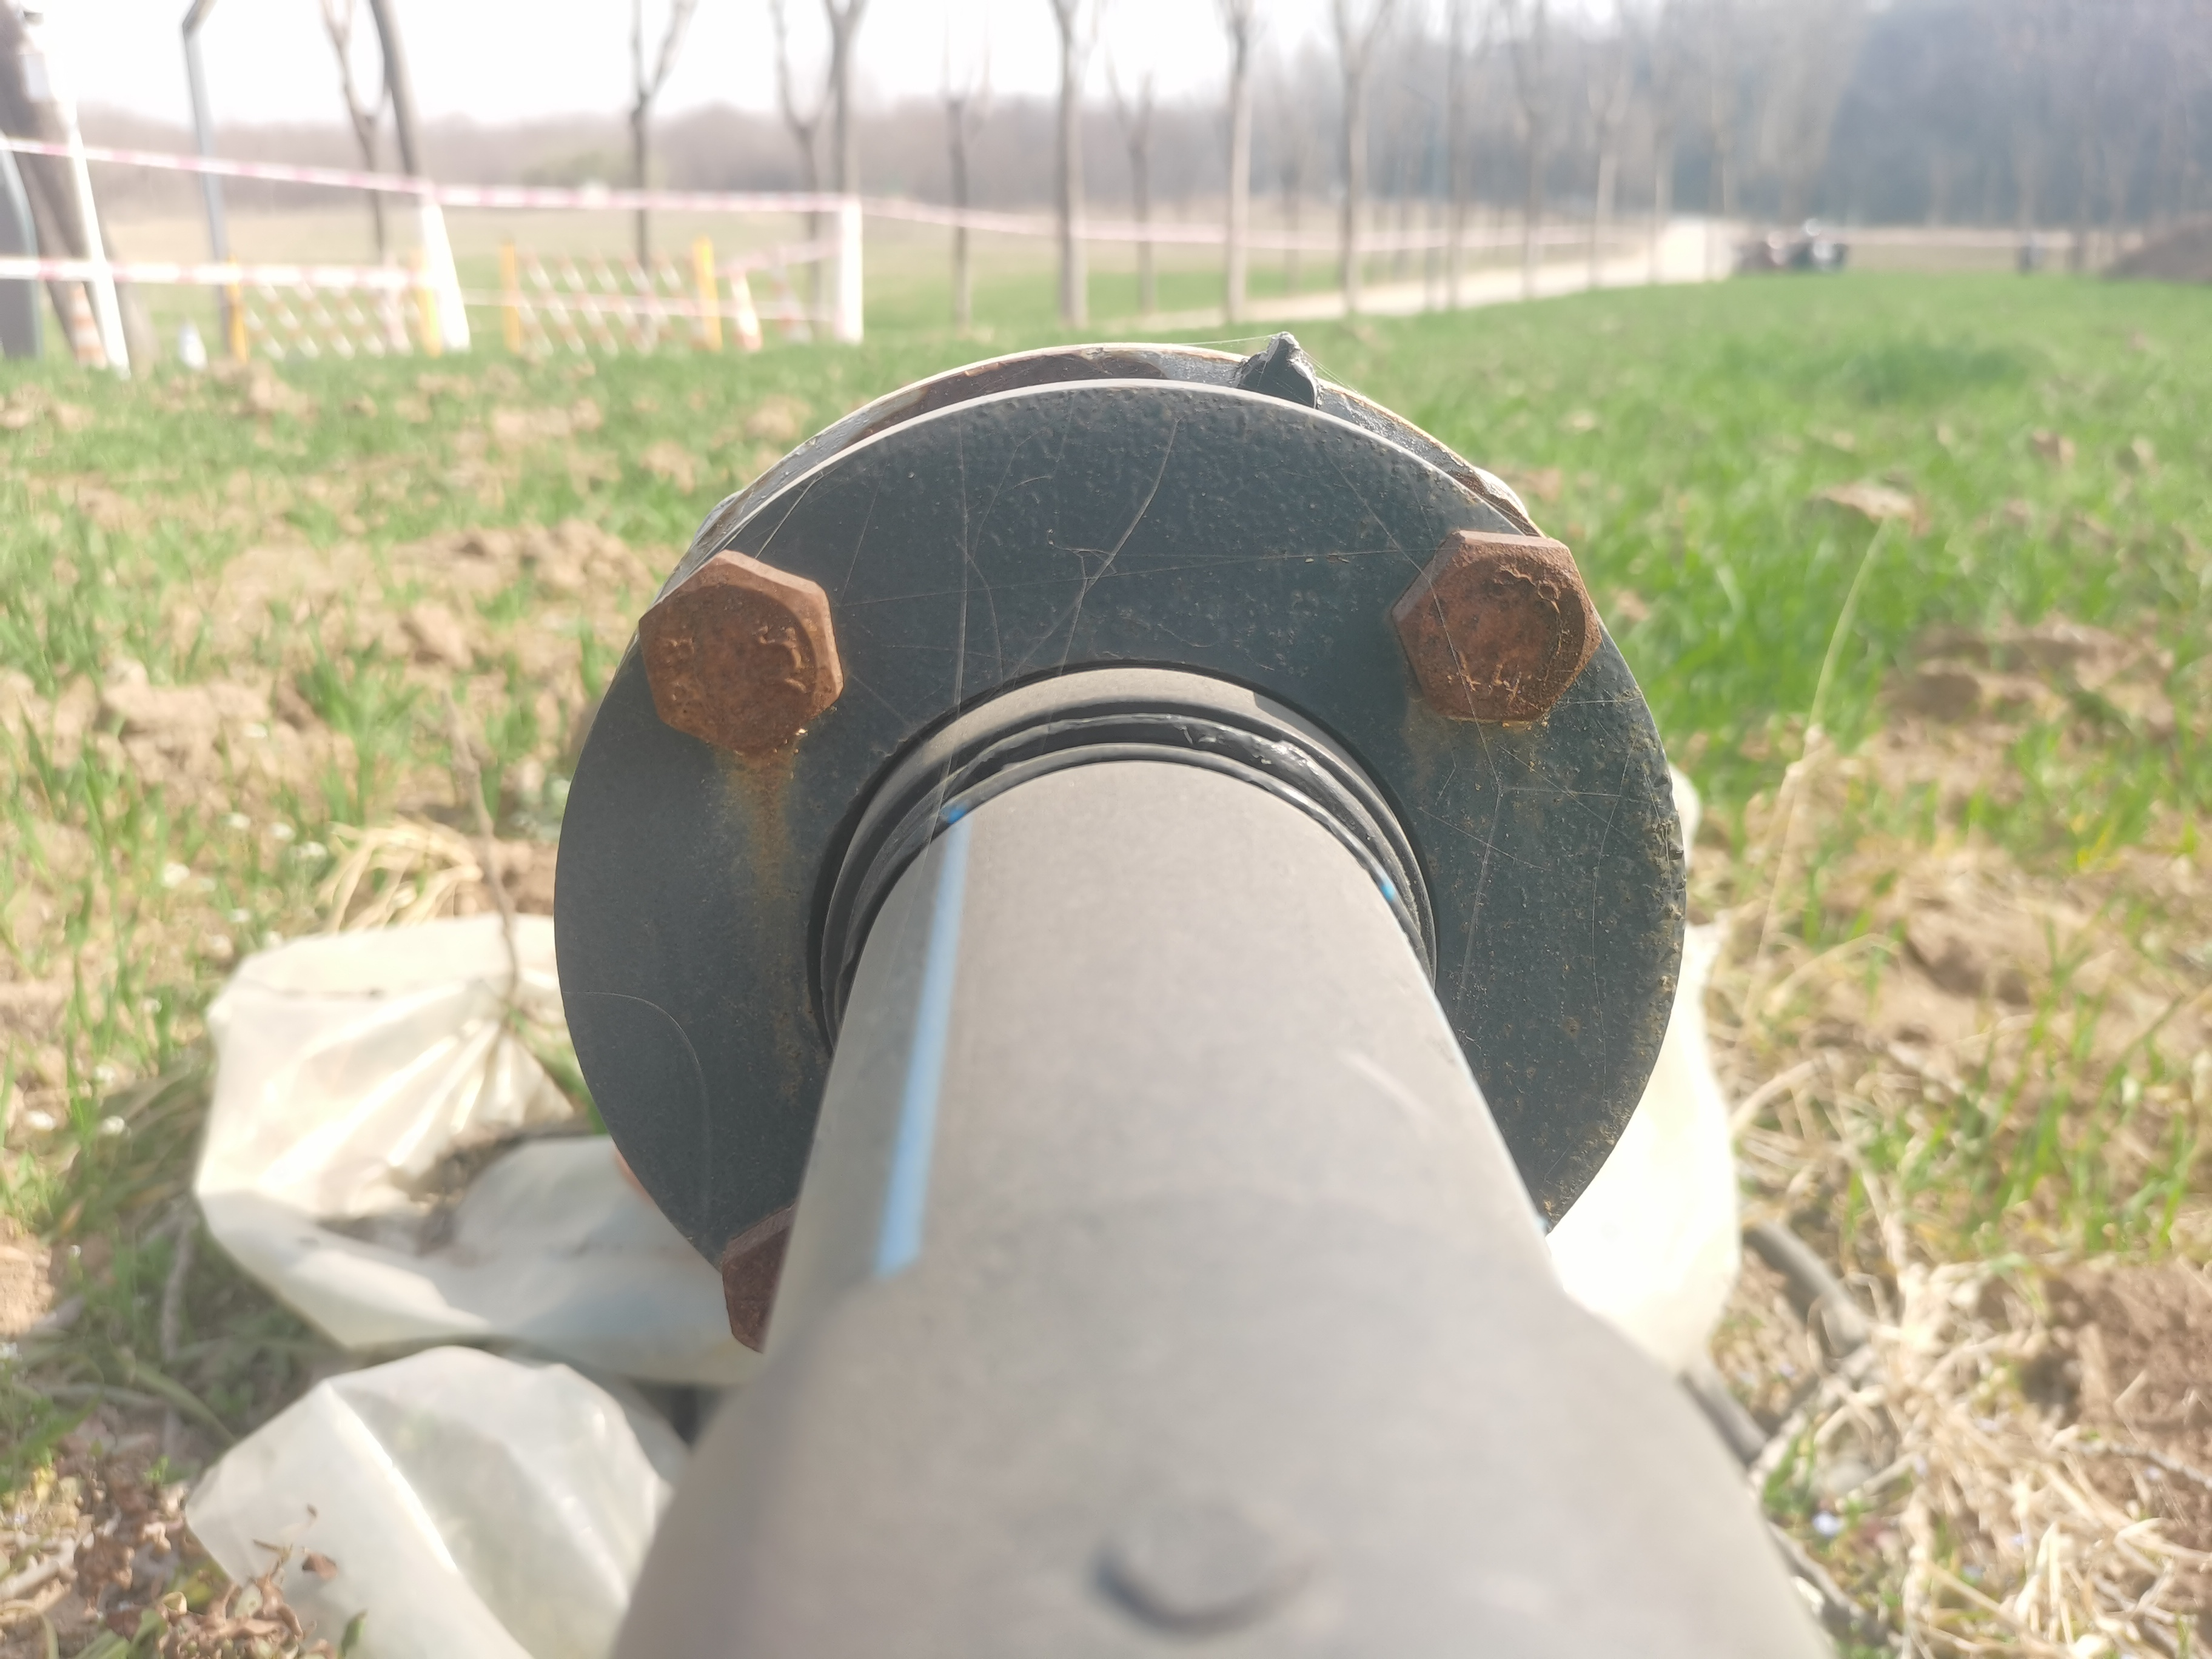bolt_a: (636, 545, 850, 758), (1390, 526, 1602, 723)
